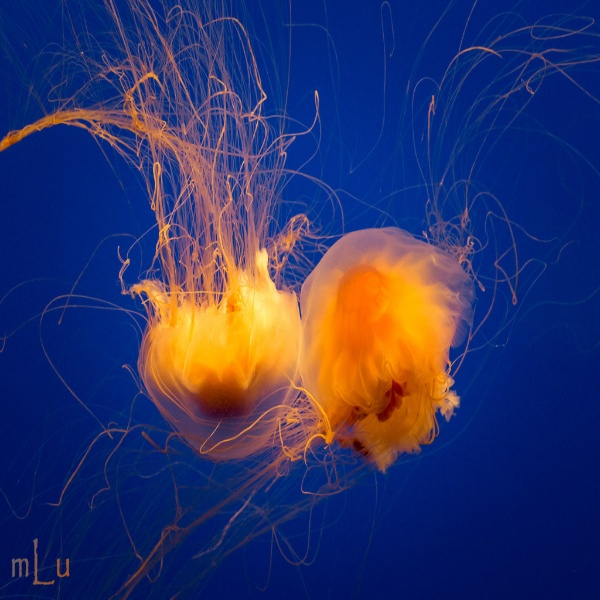Jellyfish: (117, 0, 599, 599)
